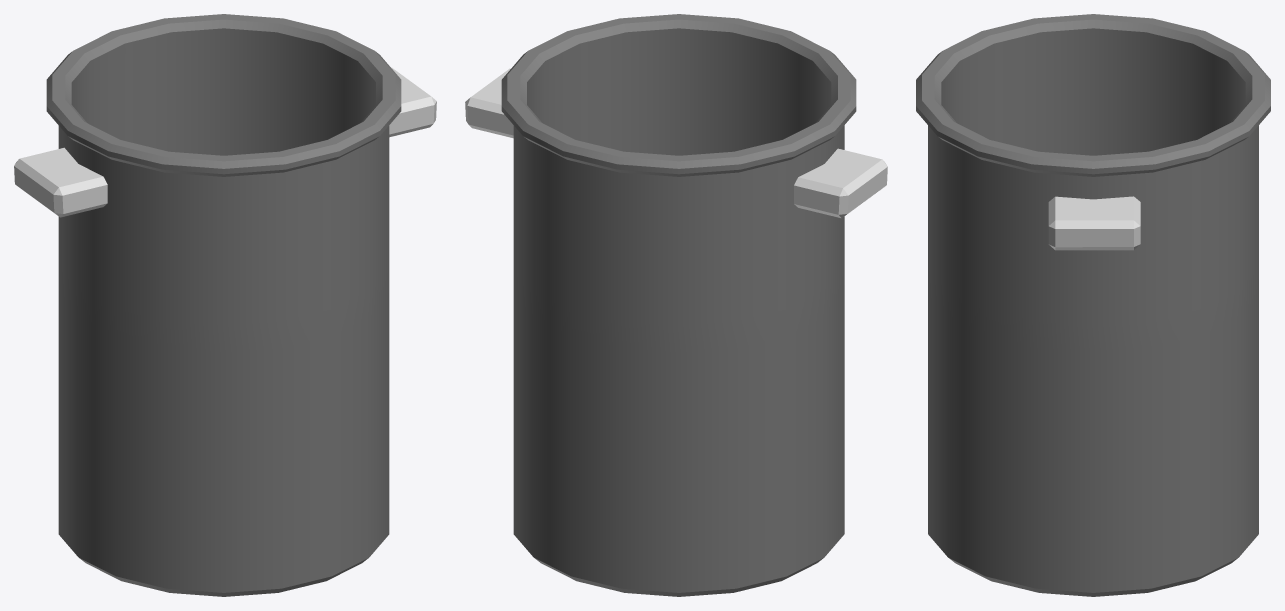
The model's file is pot.glb.
The picture shows the model from 3 angles, left to right: view 1: azimuth 30°, elevation 25°; view 2: azimuth 150°, elevation 25°; view 3: azimuth 270°, elevation 25°; orthographic projection.
Parts seen in each view (by area): view 1: Long_Pot; view 2: Long_Pot; view 3: Long_Pot.
Boxes of the visible parts, <box> form: Long_Pot: <box>14,14,436,596</box>; Long_Pot: <box>465,14,887,596</box>; Long_Pot: <box>916,14,1270,596</box>.
Size of the model in its own units: 2.69 by 2.97 by 2.16.
Materials: 1 (1 with a texture image).
